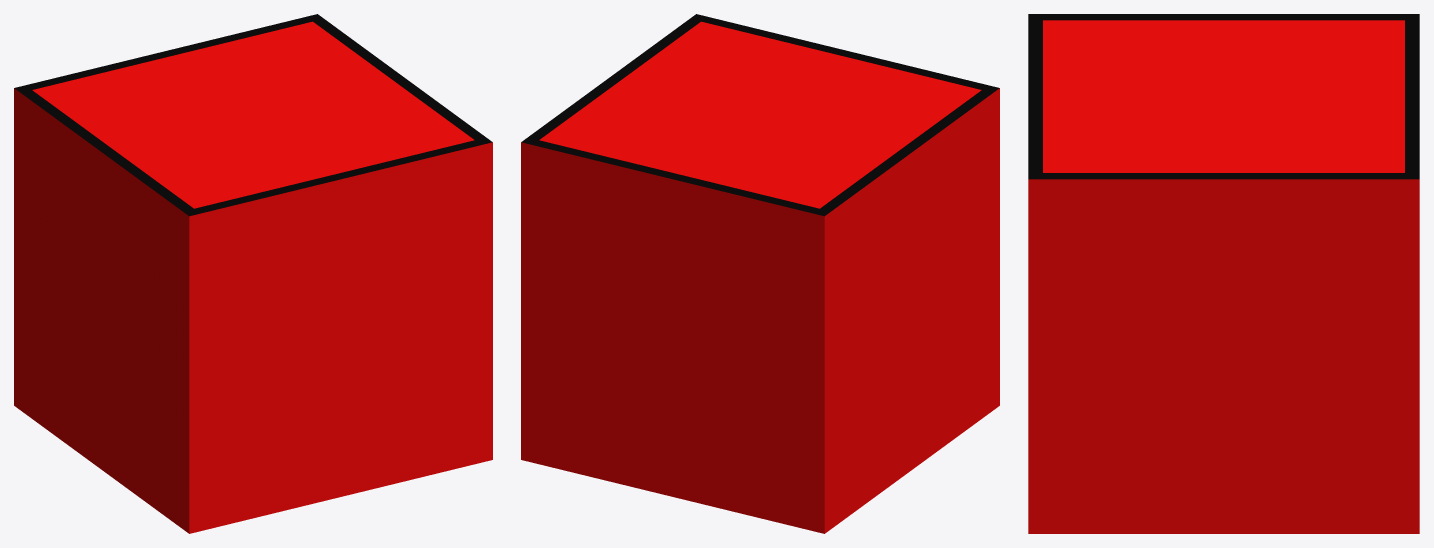
File: Wall.obj
3 renders of one model, left to right at view 1: azimuth 30°, elevation 25°; view 2: azimuth 150°, elevation 25°; view 3: azimuth 270°, elevation 25°, orthographic. The views are drawn at different scales.
Parts seen in each view (by area): view 1: Cube; view 2: Cube; view 3: Cube.
Part boxes in pixels (x1,y1,x2,y2): Cube: (14,14,492,533); Cube: (521,14,999,533); Cube: (1028,14,1419,533).
Bounding box in the file's own units: 2 × 2 × 2.
